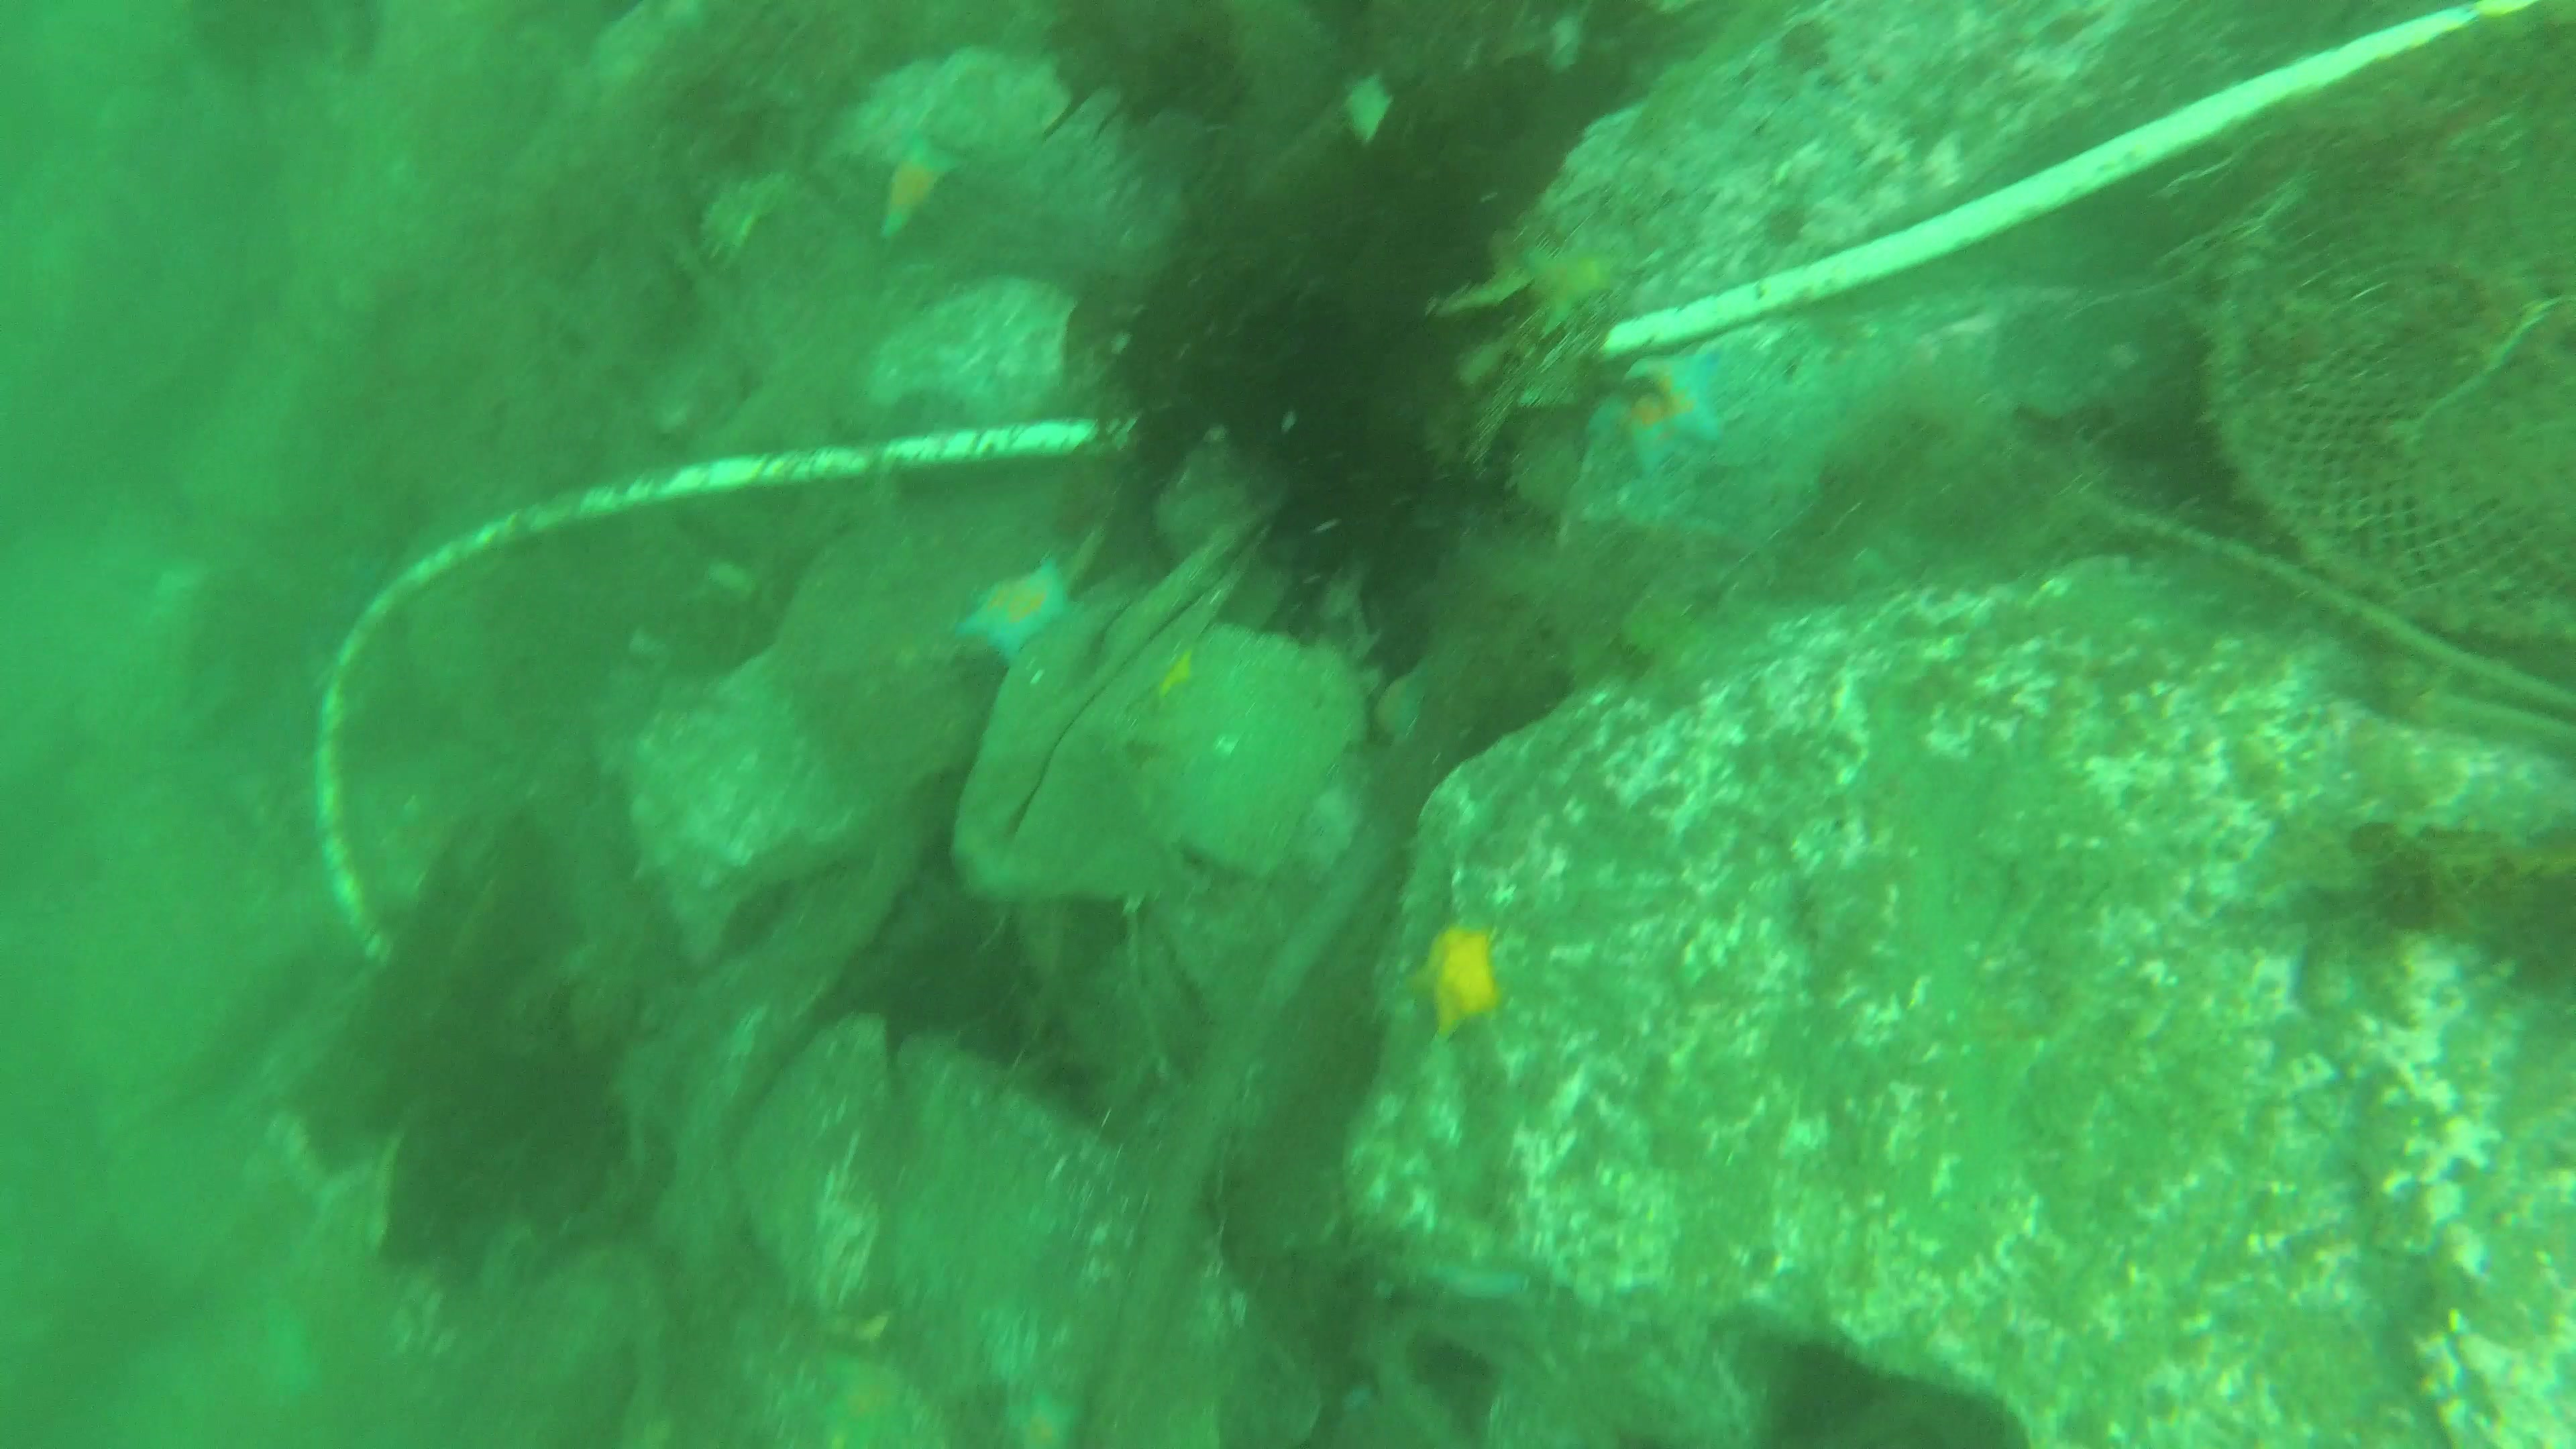holothurian: (1401, 931, 1504, 1040), (881, 138, 971, 241)
starfish: (1598, 343, 1736, 467), (957, 554, 1079, 671), (1132, 640, 1198, 694)
